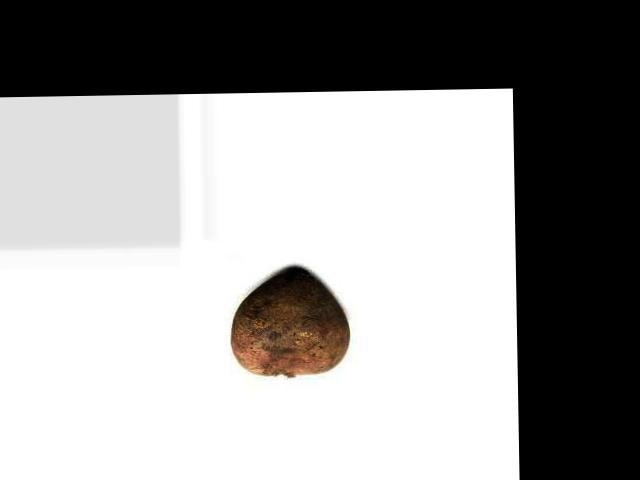beet: (229, 266, 351, 376)
